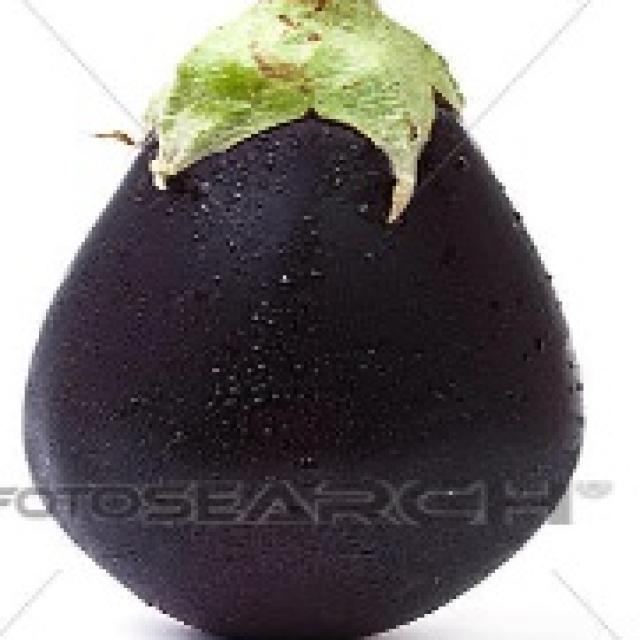eggplant: (14, 48, 580, 632)
